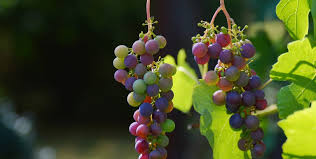Black grapes: (189, 21, 270, 156), (111, 29, 184, 159)
